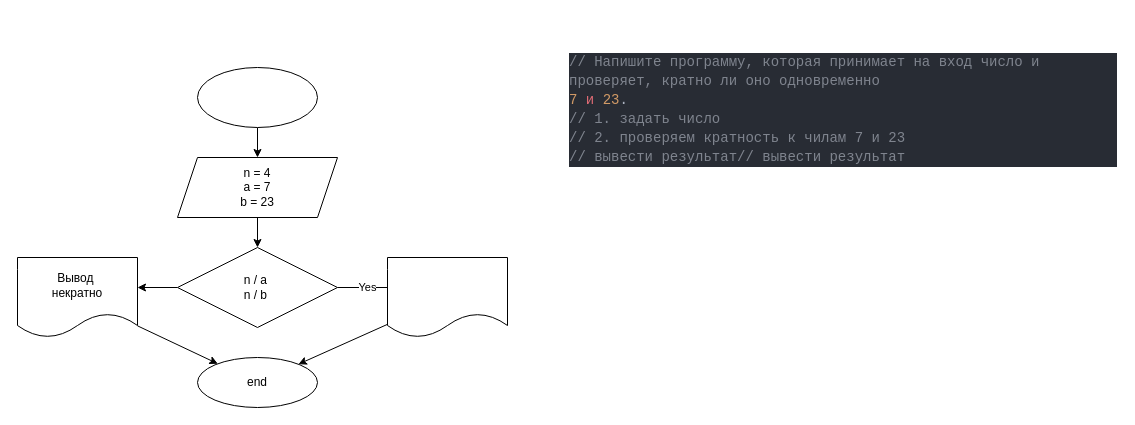
Some shapes in this 1135 by 425 pixel diagram are drawn without their labels. The centre of each missing label's shape, as x and y in pixels:
start: (x=257, y=97)
Вывод кратно: (x=447, y=297)
